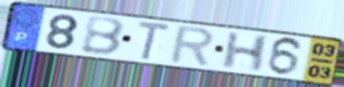6: (267, 36, 308, 77)
8: (45, 13, 79, 51)
B: (80, 15, 128, 57)
H: (219, 31, 272, 73)
R: (166, 24, 217, 69)
T: (136, 19, 174, 62)
